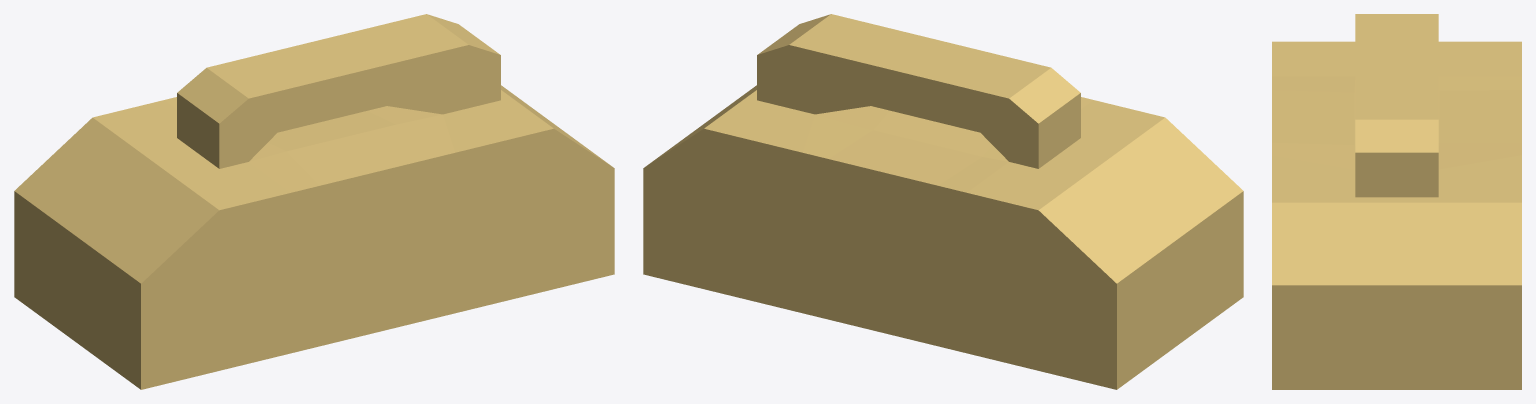
File: telephone.fbx
The picture shows the model from 3 angles, left to right: view 1: azimuth 30°, elevation 25°; view 2: azimuth 150°, elevation 25°; view 3: azimuth 270°, elevation 25°; orthographic projection.
Visible parts, largest first — view 1: Cube; view 2: Cube; view 3: Cube.
Boxes of the visible parts, left/top/right/bottom form: Cube: left=14, top=14, right=614, bottom=389; Cube: left=643, top=14, right=1243, bottom=389; Cube: left=1272, top=14, right=1521, bottom=389.
Size of the model in its own units: 40.9 by 18.47 by 18.97.
